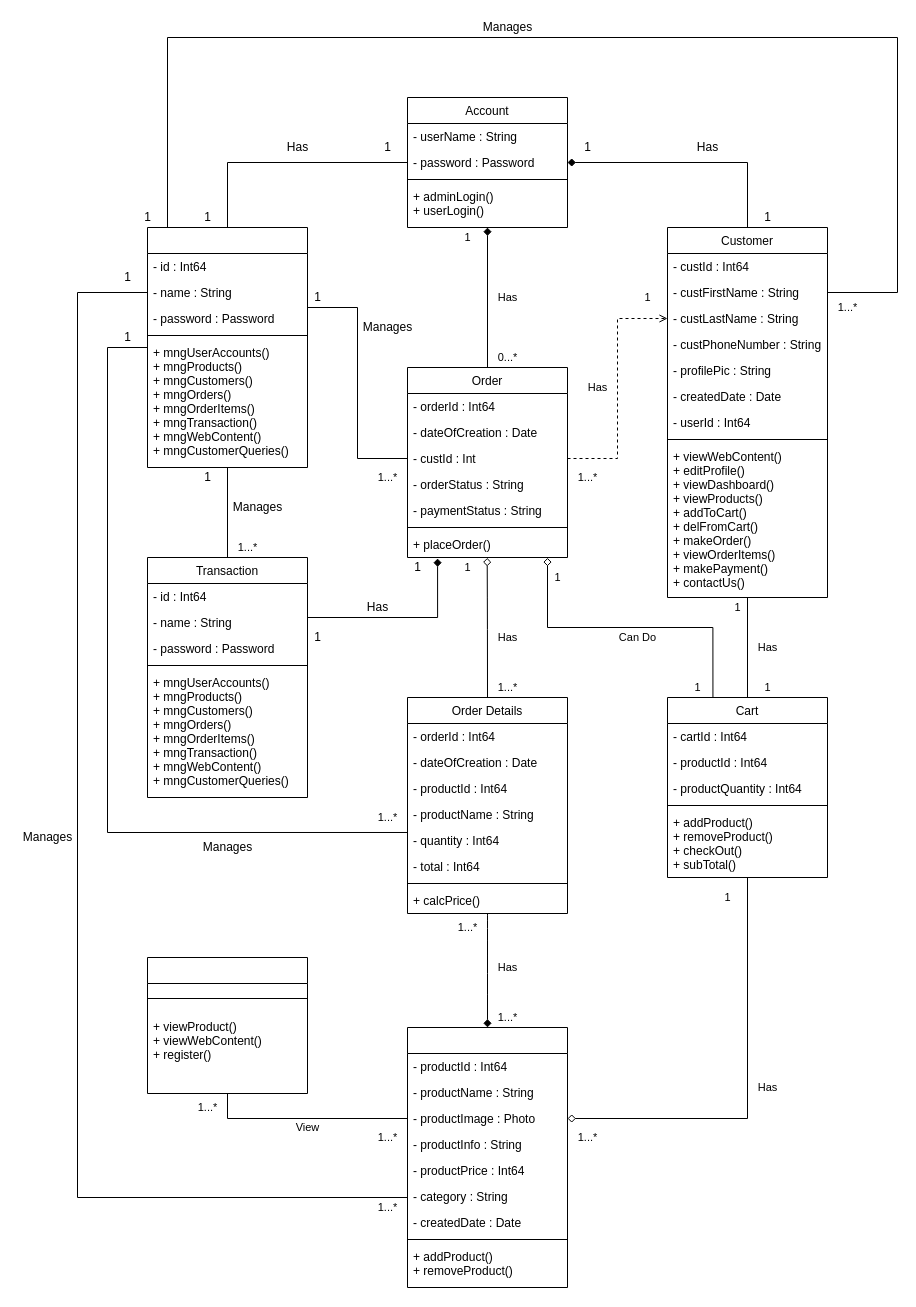
Image size: 916x1307. Some labels were removed from this diagram. Each missing label, with the box of its shape:
Admin: (146, 226, 308, 468)
Products: (406, 1026, 568, 1288)
Visitor: (146, 956, 308, 1094)
